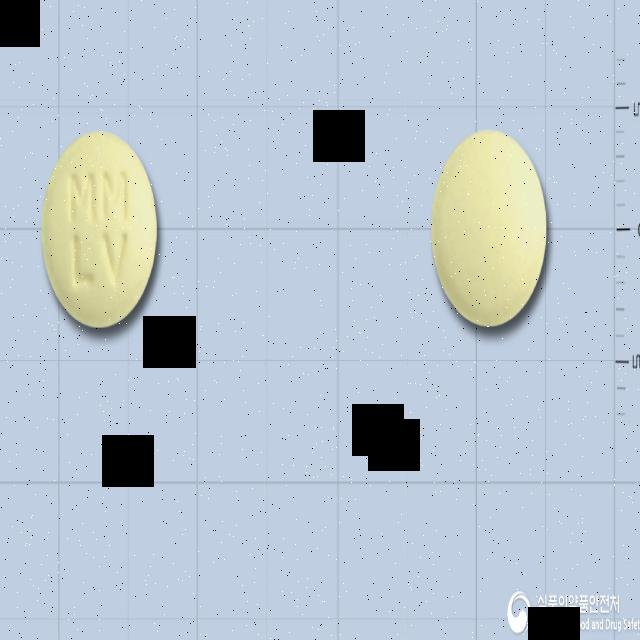Levofuracin: (40, 128, 158, 330)
